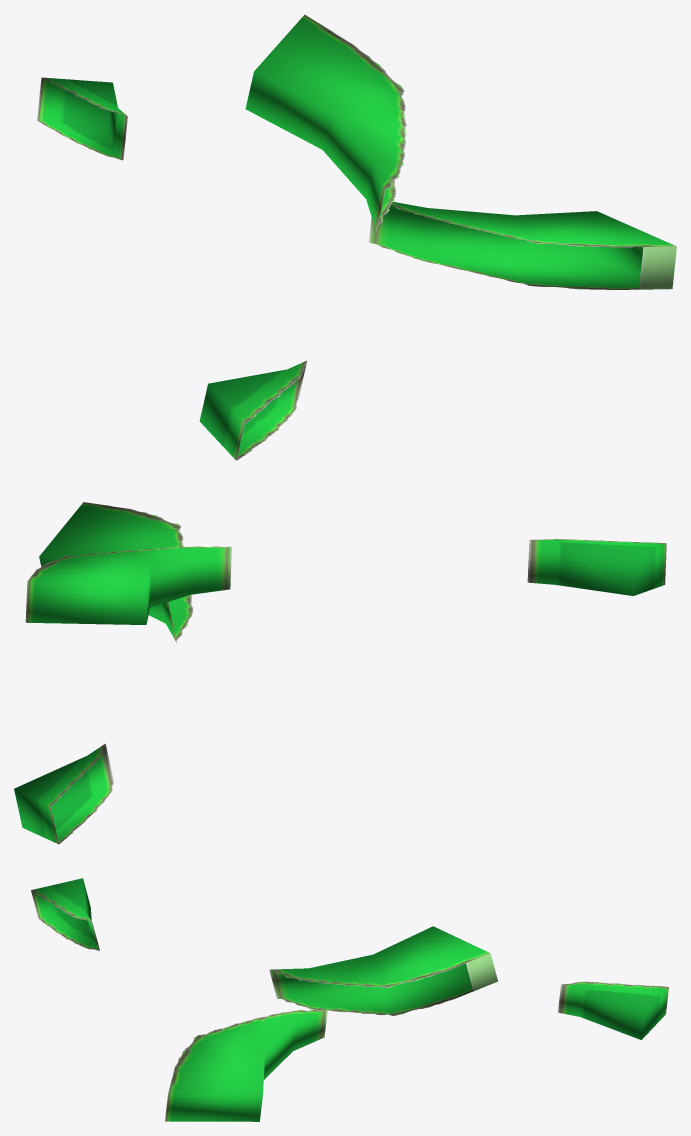
Rendered from OnionCut.04_1.fbx.
The picture shows the model from 3 angles, top to bottom: view 1: azimuth 30°, elevation 25°; view 2: azimuth 150°, elevation 25°; view 3: azimuth 270°, elevation 25°; orthographic projection. The views are drawn at different scales.
Visible parts, largest first — view 1: OnionCut.04; view 2: OnionCut.04; view 3: OnionCut.04.
Part boxes in pixels (box(x1,y1,x2,y2)): OnionCut.04: box(37, 14, 676, 460); OnionCut.04: box(14, 502, 666, 844); OnionCut.04: box(31, 878, 668, 1121).
Bounding box in the file's own units: 26.67 × 7.84 × 38.71.
